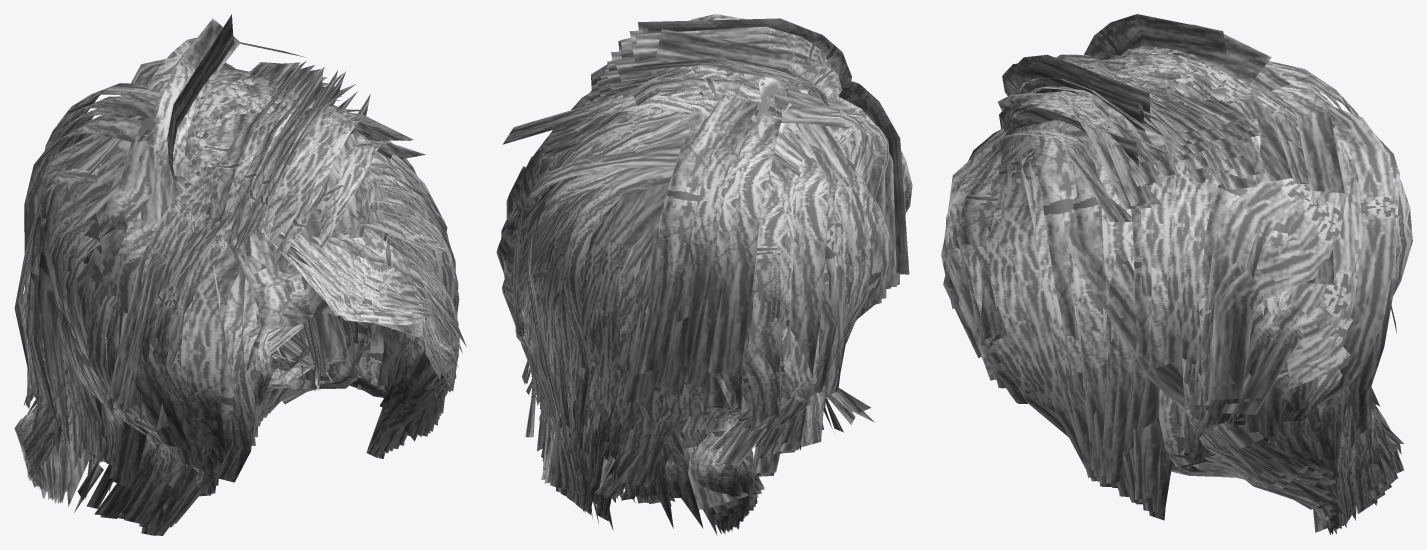
File: daz_hair_side_long.glb
3 renders of one model, left to right at view 1: azimuth 30°, elevation 25°; view 2: azimuth 150°, elevation 25°; view 3: azimuth 270°, elevation 25°, orthographic. The views are drawn at different scales.
Visible parts, largest first — view 1: daz_hair_side_long; view 2: daz_hair_side_long; view 3: daz_hair_side_long.
Boxes of the visible parts, x1=… form: daz_hair_side_long: x1=14, y1=14, x2=466, y2=535; daz_hair_side_long: x1=496, y1=14, x2=912, y2=535; daz_hair_side_long: x1=941, y1=14, x2=1412, y2=534.
Size of the model in its own units: 0.2152 by 0.2782 by 0.2433.
1 material, 1 textured.
